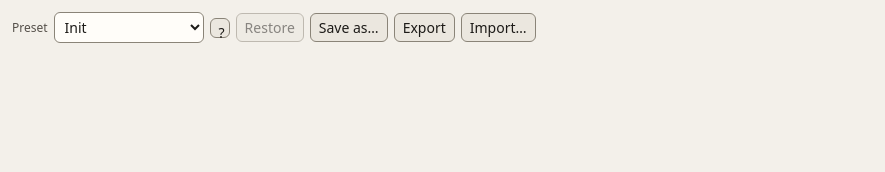
Scenario: PresetMenu › Escape cancels the naming form without saving
Click the button "Save as…".
click(349, 28)  # box [310,13,388,42]
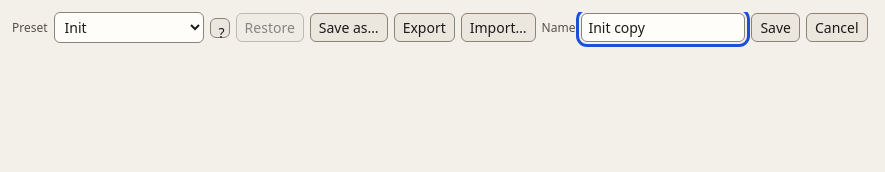
Press Escape in the field labelled "Name", box [581,13,745,42]
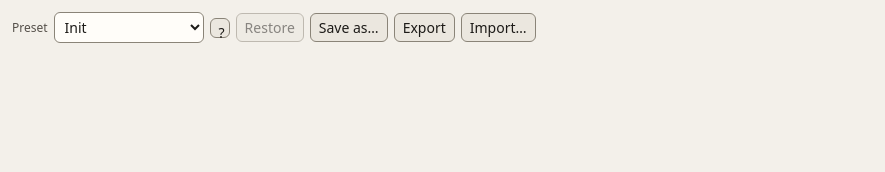
Check: the label labelled "Name" is gone
